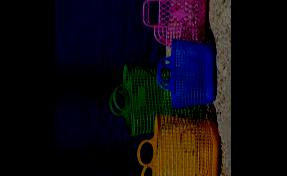Plastic: (112, 64, 219, 136), (132, 111, 223, 175), (158, 34, 220, 112), (137, 0, 214, 51)
